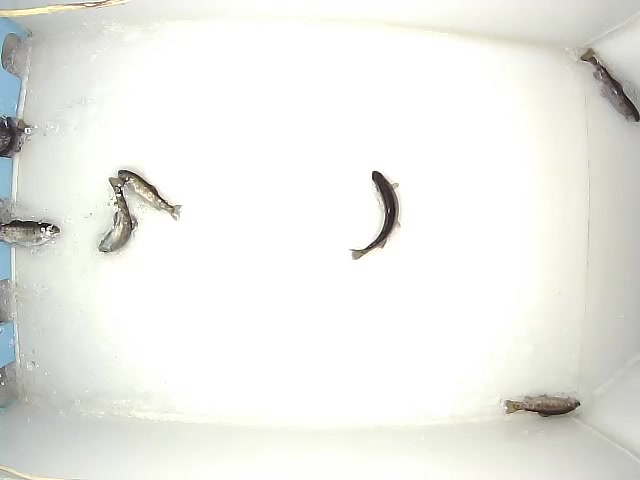fish: (347, 170, 404, 262), (579, 46, 640, 123), (117, 168, 183, 223), (97, 176, 136, 256), (502, 392, 583, 419), (1, 219, 63, 249)
